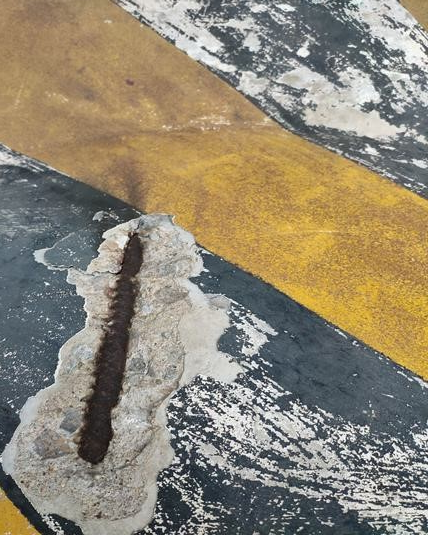Exposed reinforcement: (77, 232, 144, 465)
Spalling: (1, 213, 245, 535)
